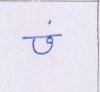anusvara: (48, 21, 52, 24)
